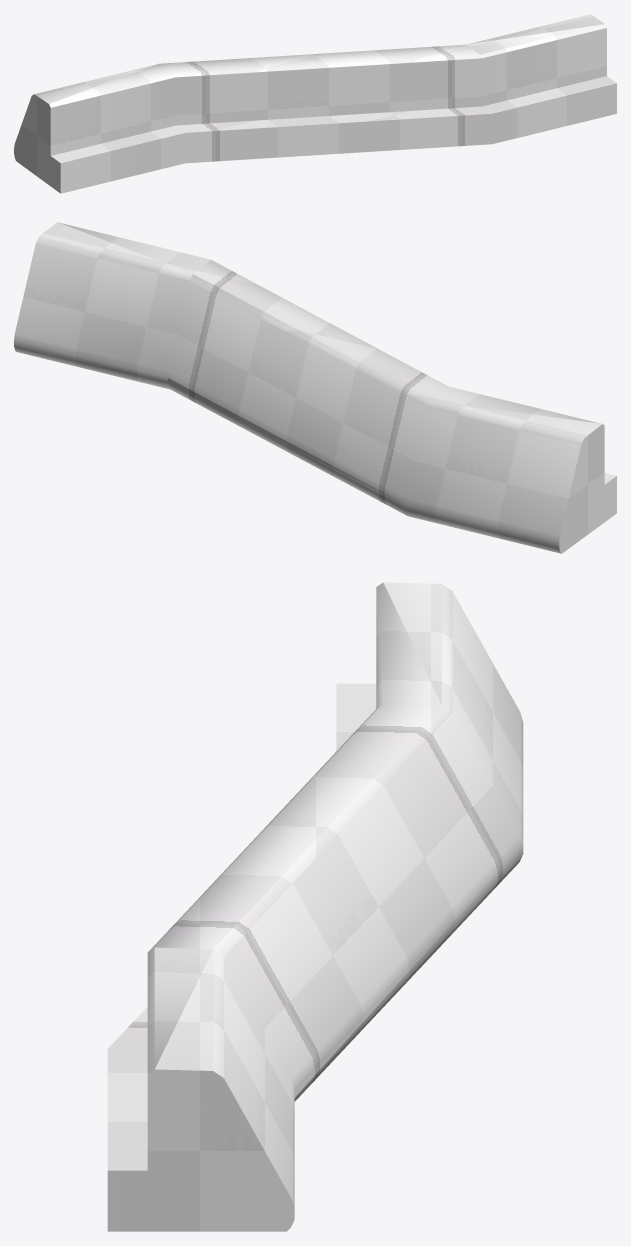
Rendered from CitWards_BalJog_B.FBX.
3 renders of one model, top to bottom at view 1: azimuth 30°, elevation 25°; view 2: azimuth 150°, elevation 25°; view 3: azimuth 270°, elevation 25°, orthographic. The views are drawn at different scales.
Visible parts, largest first — view 1: CitWards_BalJog_B; view 2: CitWards_BalJog_B; view 3: CitWards_BalJog_B.
Part boxes in pixels (<box>): CitWards_BalJog_B: <box>14,14,616,193</box>; CitWards_BalJog_B: <box>14,222,616,553</box>; CitWards_BalJog_B: <box>107,582,523,1231</box>.
Size of the model in its own units: 10 by 1.55 by 3.6.
